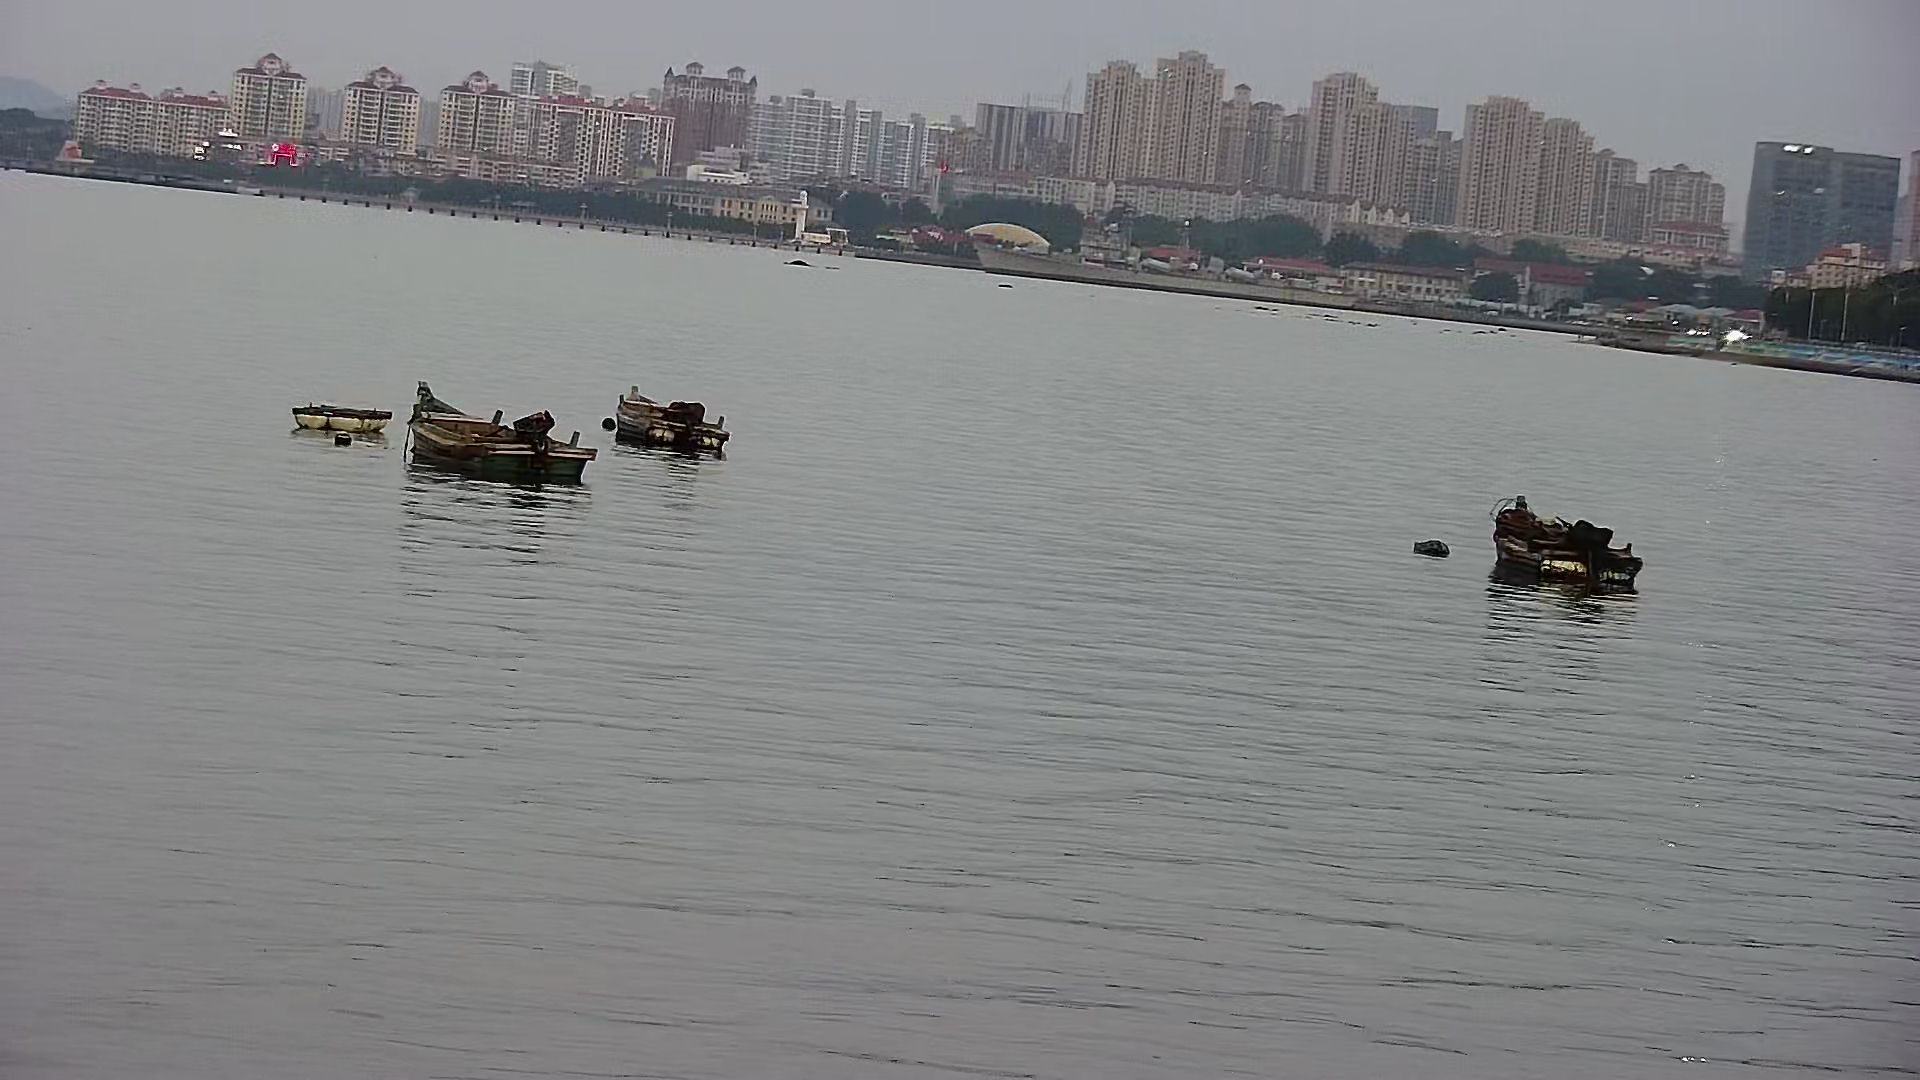boat: (410, 378, 596, 506), (1487, 491, 1656, 615), (618, 361, 731, 475), (285, 386, 394, 465)
rock: (1418, 521, 1455, 574)
